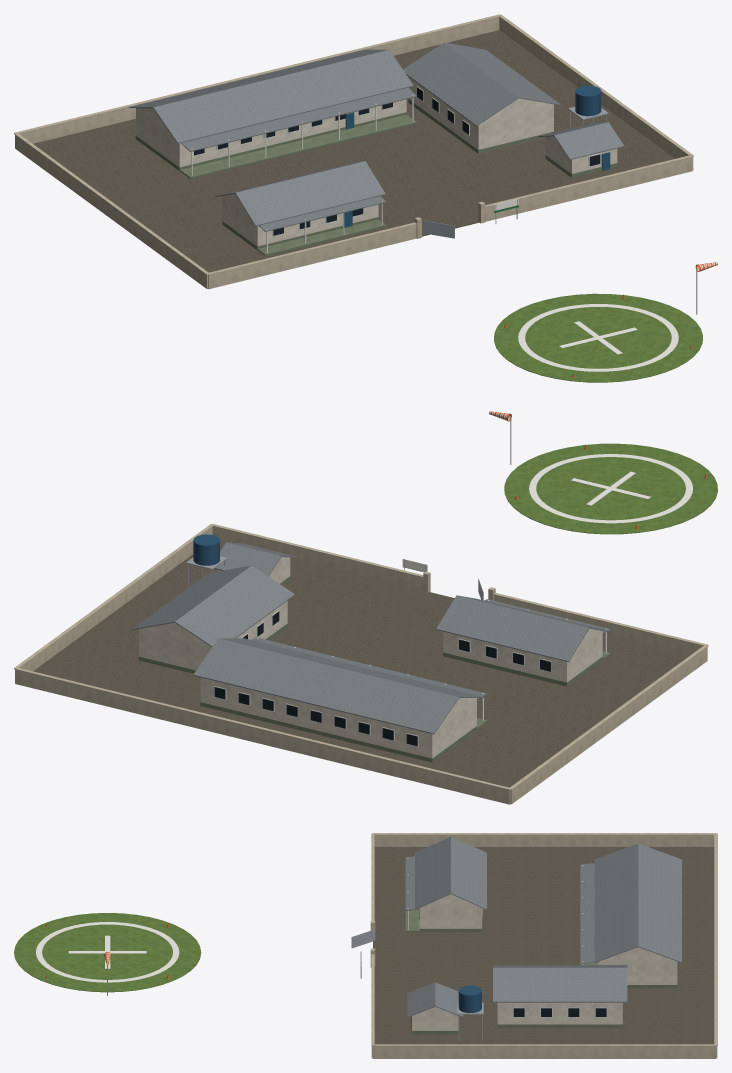
Rendered from clinic.glb.
The picture shows the model from 3 angles, top to bottom: view 1: azimuth 30°, elevation 25°; view 2: azimuth 150°, elevation 25°; view 3: azimuth 270°, elevation 25°; orthographic projection. The views are drawn at different scales.
Parts seen in each view (by area): view 1: clinic_gravel, clinic_clinic_roof, clinic_compound_wall, clinic_mown_grass, clinic_clinic_walls, clinic_clinic_plinth, clinic_paint_white, clinic_window_glass, clinic_window_frame, clinic_steel, clinic_water_tank; view 2: clinic_gravel, clinic_clinic_roof, clinic_compound_wall, clinic_mown_grass, clinic_clinic_walls, clinic_clinic_plinth, clinic_paint_white, clinic_window_glass, clinic_window_frame, clinic_water_tank; view 3: clinic_gravel, clinic_clinic_roof, clinic_compound_wall, clinic_mown_grass, clinic_clinic_walls, clinic_paint_white, clinic_clinic_plinth, clinic_steel, clinic_water_tank, clinic_window_glass.
Boxes of the visible parts, x1=… form: clinic_gravel: x1=33, y1=30, x2=674, y2=272; clinic_clinic_roof: x1=129, y1=42, x2=624, y2=231; clinic_compound_wall: x1=14, y1=14, x2=693, y2=289; clinic_mown_grass: x1=494, y1=293, x2=702, y2=382; clinic_clinic_walls: x1=136, y1=77, x2=617, y2=246; clinic_clinic_plinth: x1=135, y1=99, x2=617, y2=255; clinic_paint_white: x1=494, y1=199, x2=678, y2=371; clinic_window_glass: x1=194, y1=87, x2=600, y2=235; clinic_window_frame: x1=191, y1=86, x2=600, y2=253; clinic_steel: x1=424, y1=107, x2=697, y2=314; clinic_water_tank: x1=575, y1=85, x2=601, y2=116; clinic_gravel: x1=33, y1=541, x2=688, y2=787; clinic_clinic_roof: x1=131, y1=542, x2=610, y2=734; clinic_compound_wall: x1=14, y1=524, x2=708, y2=804; clinic_mown_grass: x1=504, y1=443, x2=717, y2=534; clinic_clinic_walls: x1=139, y1=557, x2=602, y2=758; clinic_clinic_plinth: x1=138, y1=576, x2=610, y2=762; clinic_paint_white: x1=402, y1=454, x2=692, y2=572; clinic_window_glass: x1=214, y1=611, x2=550, y2=746; clinic_window_frame: x1=214, y1=600, x2=606, y2=746; clinic_water_tank: x1=193, y1=534, x2=219, y2=565; clinic_gravel: x1=373, y1=847, x2=714, y2=1044; clinic_clinic_roof: x1=405, y1=836, x2=681, y2=1017; clinic_compound_wall: x1=370, y1=833, x2=717, y2=1058; clinic_mown_grass: x1=14, y1=913, x2=201, y2=992; clinic_clinic_walls: x1=412, y1=894, x2=677, y2=1030; clinic_paint_white: x1=36, y1=922, x2=361, y2=982; clinic_clinic_plinth: x1=405, y1=909, x2=677, y2=1034; clinic_steel: x1=107, y1=929, x2=483, y2=1041; clinic_water_tank: x1=458, y1=985, x2=481, y2=1012; clinic_window_glass: x1=419, y1=909, x2=677, y2=1016.
Size of the model in its own units: 64.45 by 6.55 by 90.22.
15 materials, 7 textured.
